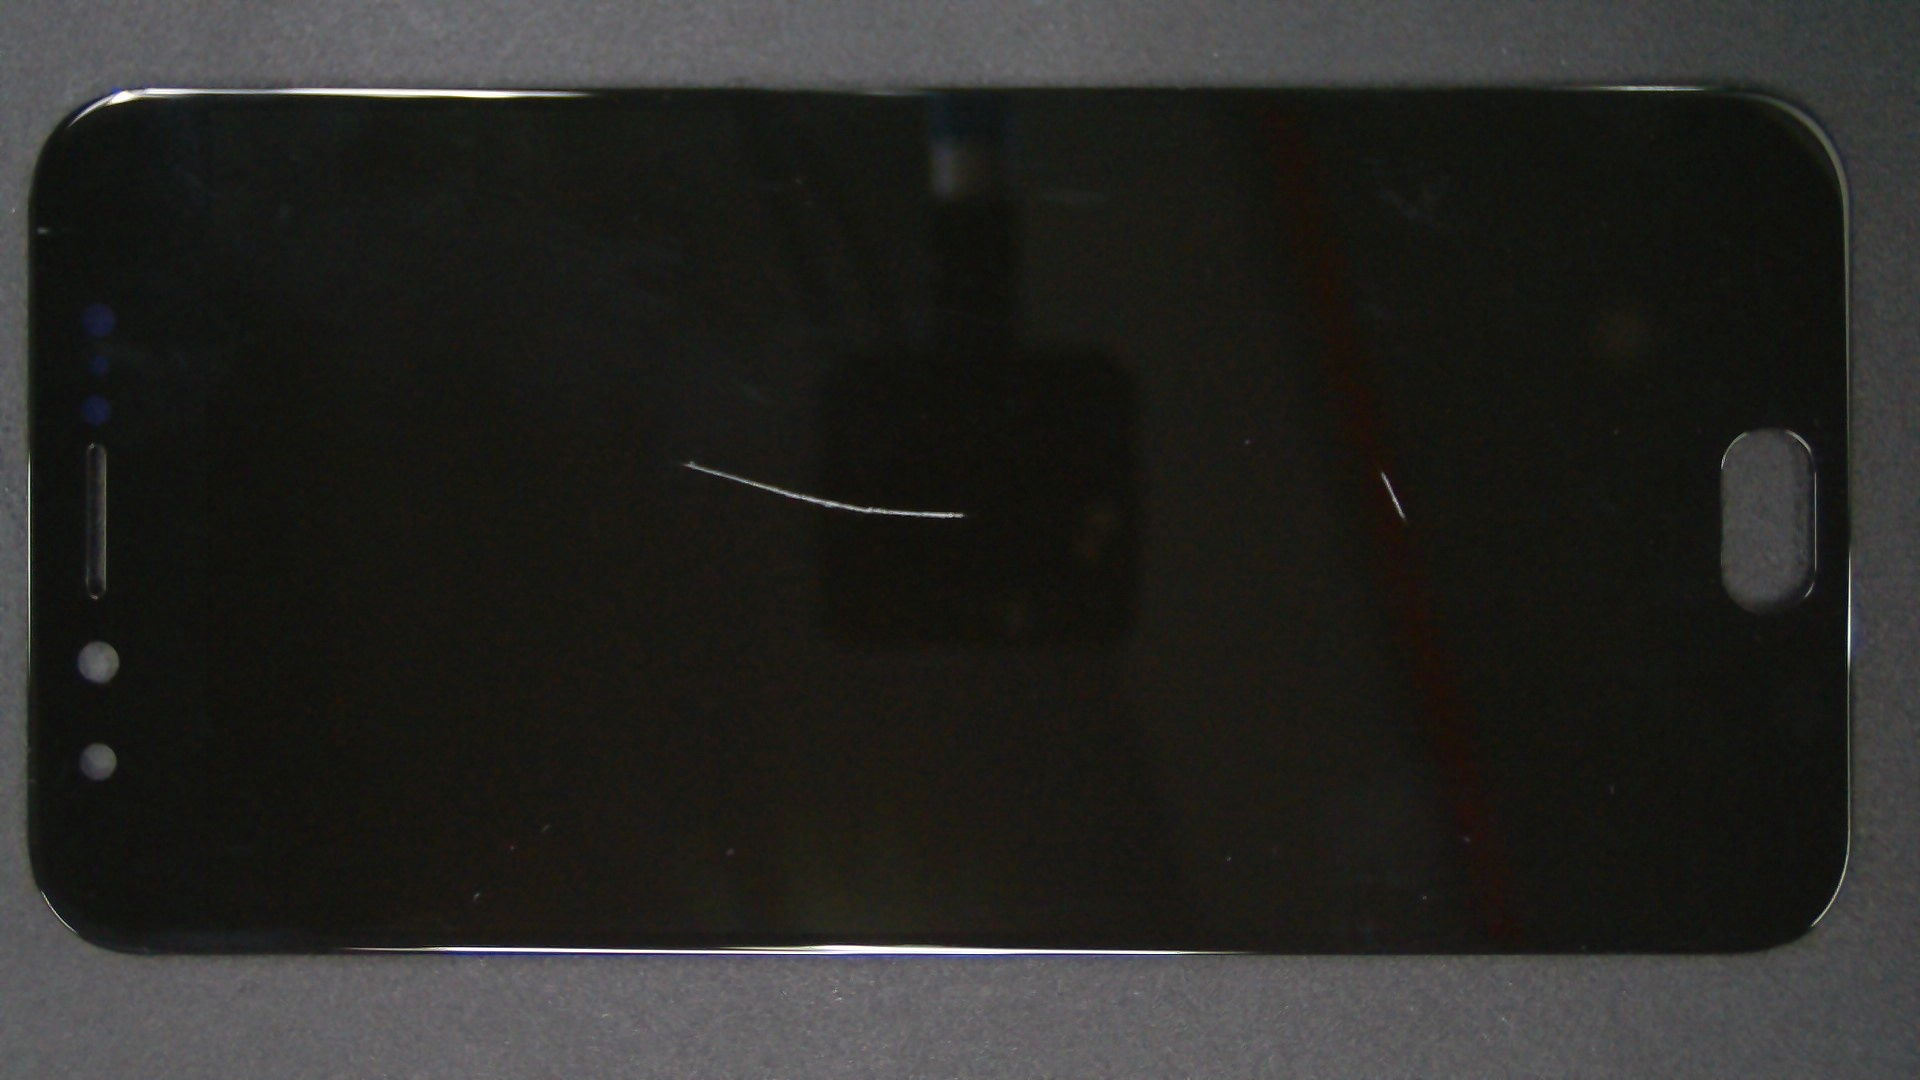oil: (692, 233, 1920, 705), (345, 229, 1033, 692)
